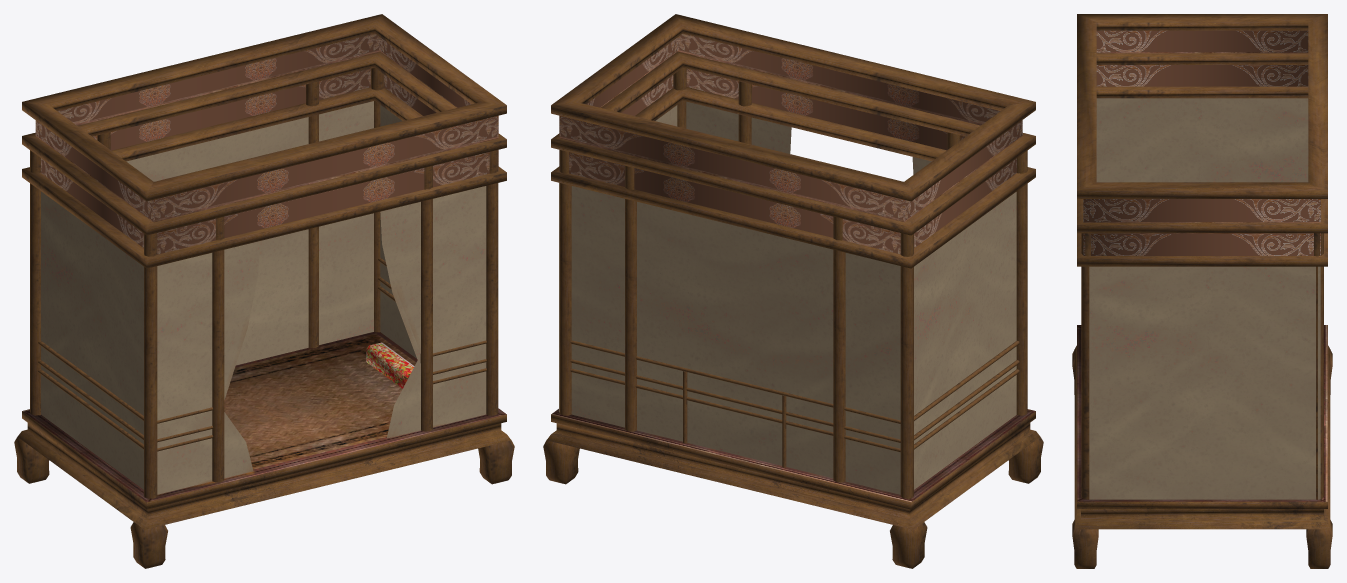
Rendered from Bed_1_xin.FBX.
3 renders of one model, left to right at view 1: azimuth 30°, elevation 25°; view 2: azimuth 150°, elevation 25°; view 3: azimuth 270°, elevation 25°, orthographic.
Parts seen in each view (by area): view 1: Bed_1_xin; view 2: Bed_1_xin; view 3: Bed_1_xin.
Boxes of the visible parts, x1=… form: Bed_1_xin: x1=14, y1=14, x2=514, y2=568; Bed_1_xin: x1=543, y1=14, x2=1043, y2=568; Bed_1_xin: x1=1072, y1=14, x2=1332, y2=568.
Bounding box in the file's own units: 90.54 × 87.46 × 54.65.
